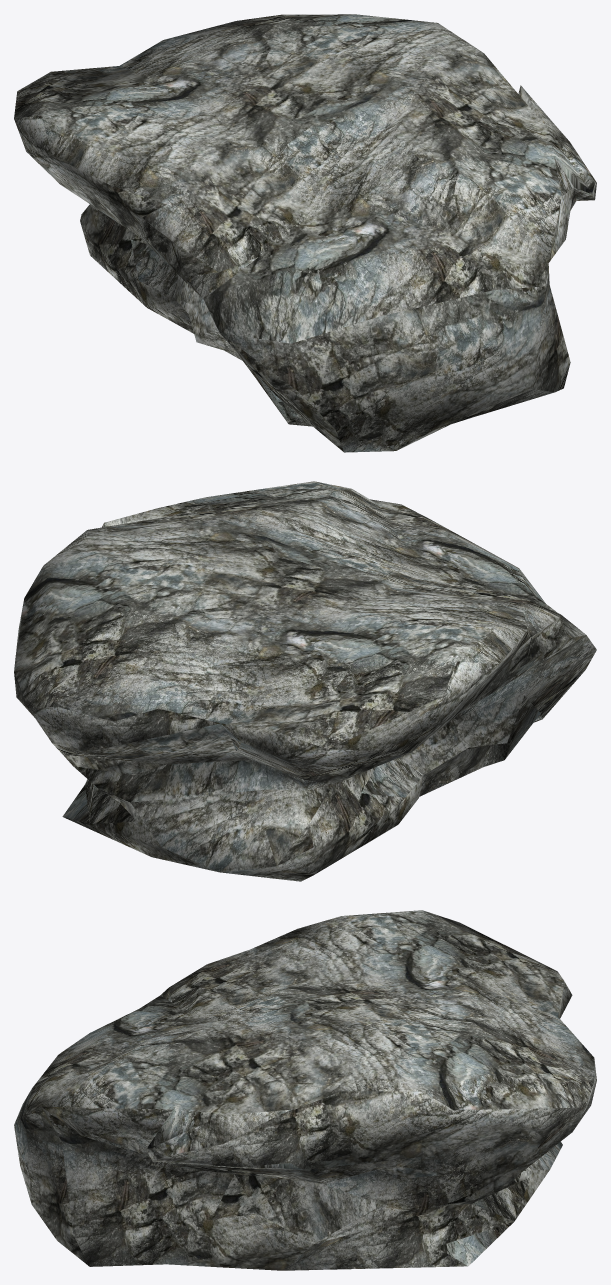
Rendered from DinoCliff_01.DAE.
The picture shows the model from 3 angles, top to bottom: view 1: azimuth 30°, elevation 25°; view 2: azimuth 150°, elevation 25°; view 3: azimuth 270°, elevation 25°; orthographic projection. The views are drawn at different scales.
Parts seen in each view (by area): view 1: DinoCliffONE200; view 2: DinoCliffONE200; view 3: DinoCliffONE200.
Part boxes in pixels (x1,y1,x2,y2): DinoCliffONE200: (14,14,596,452); DinoCliffONE200: (14,481,596,881); DinoCliffONE200: (14,910,596,1270).
Size of what is drawn, in the model's own units: 1465 by 1857 by 785.
